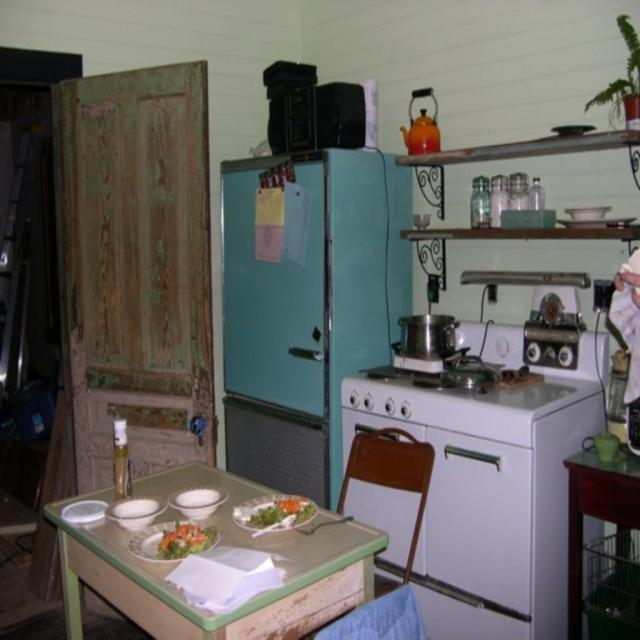chair: (336, 428, 436, 594)
desk: (58, 451, 404, 640)
